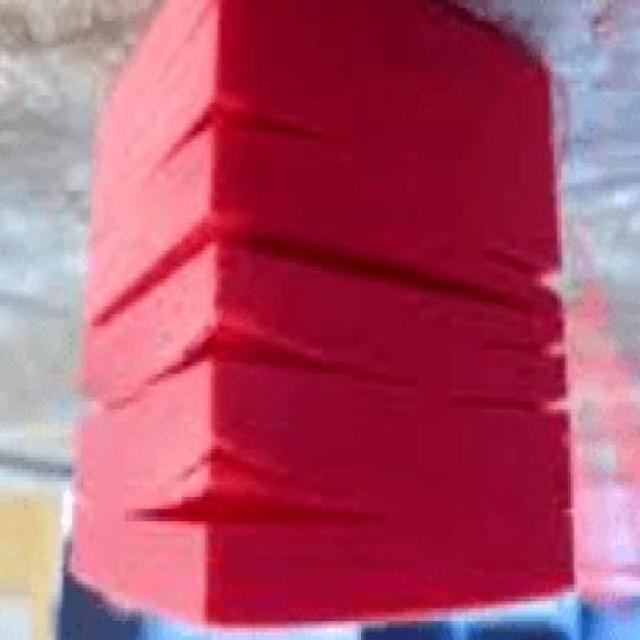Warping: (78, 218, 554, 344), (454, 180, 591, 494), (125, 308, 388, 424), (119, 446, 408, 549), (133, 80, 384, 185)
